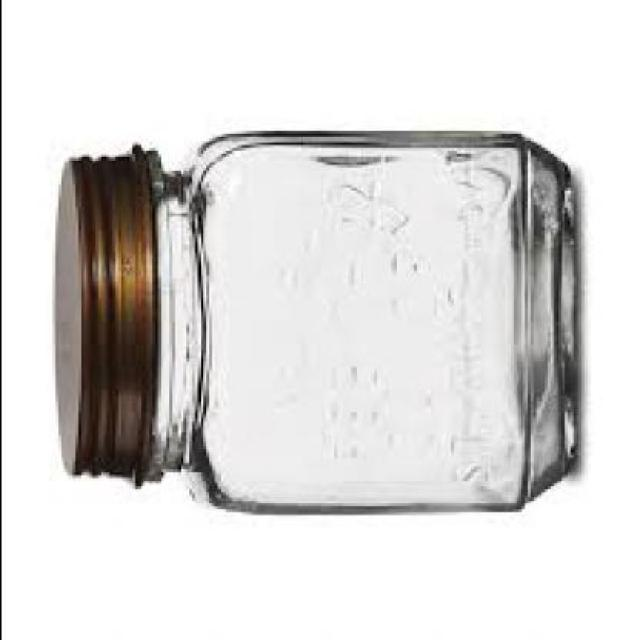GLASS: (142, 133, 575, 518)
METAL: (51, 151, 148, 486)
